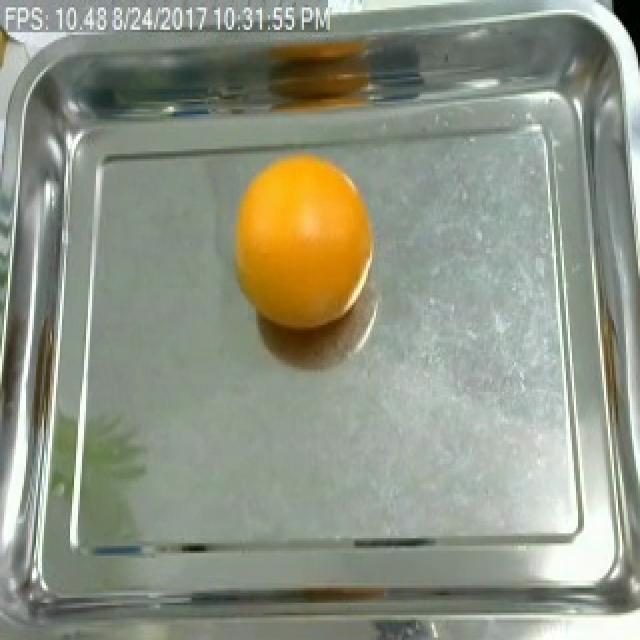Fruit: (234, 146, 380, 335), (0, 3, 18, 114)
